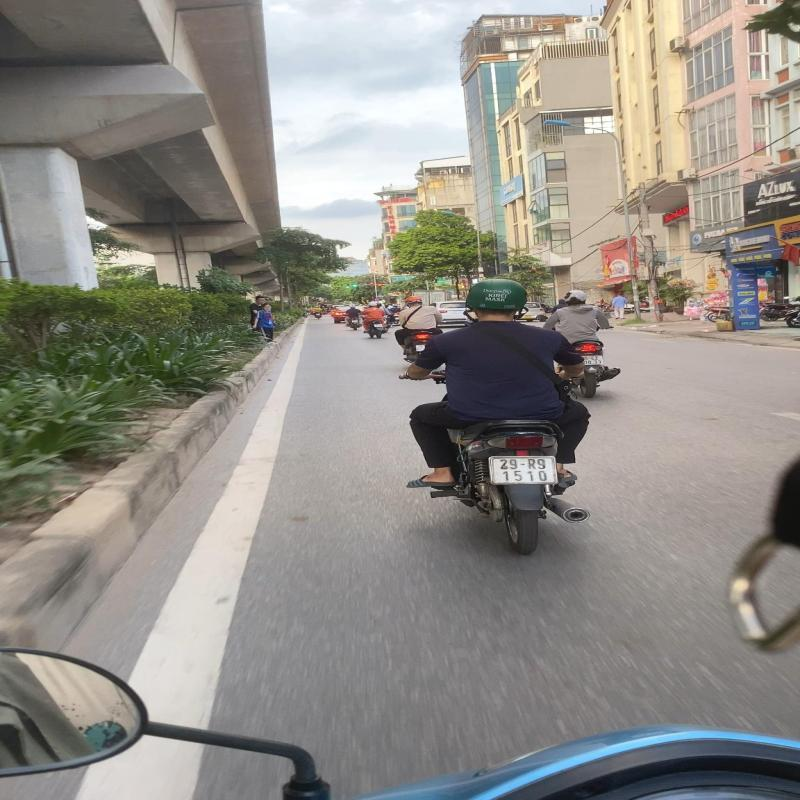helmet: (465, 276, 524, 318)
licenseplate: (484, 454, 564, 487)
motorcyclist: (395, 277, 599, 555)
